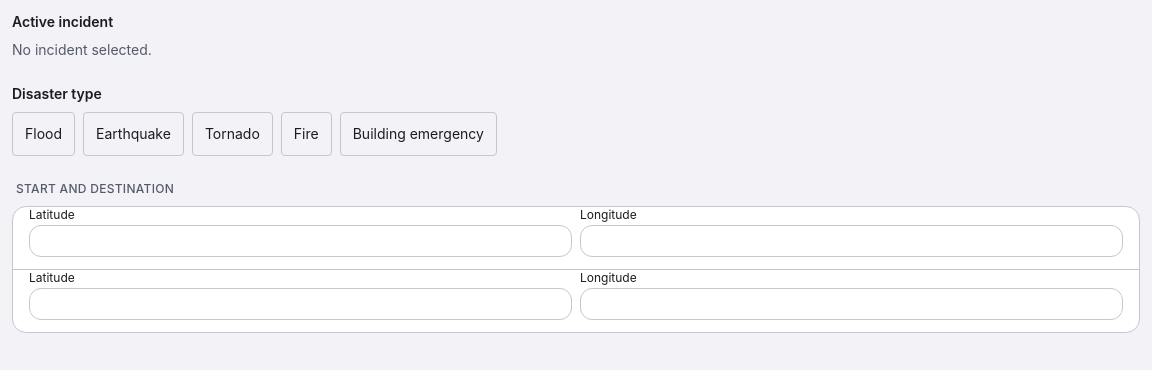
Test: Incident and route setup › rejects out-of-bounds and non-numeric coordinates with a clear error
The width and height of the screenshot is (1152, 370).
In the 1st field labelled "Latitude": (300,241) [29,225,572,257], type "10"
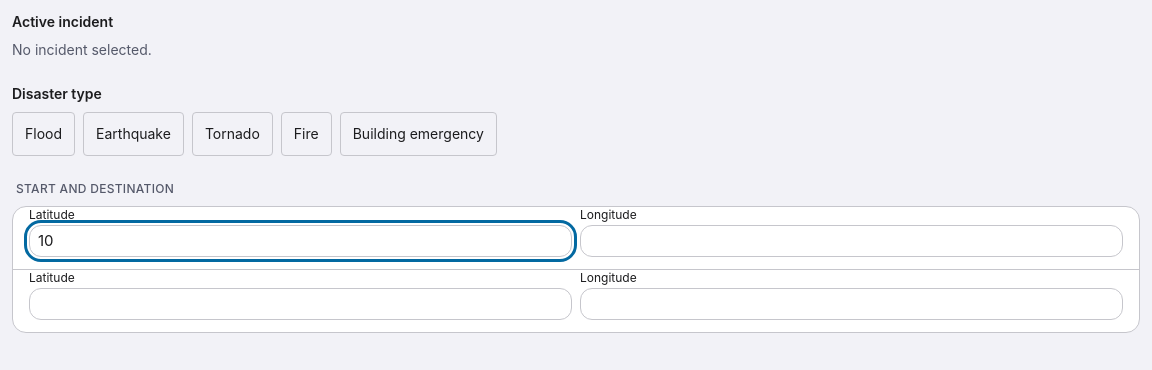
In the 1st field labelled "Longitude": (852,241) [580,225,1123,257], type "20"
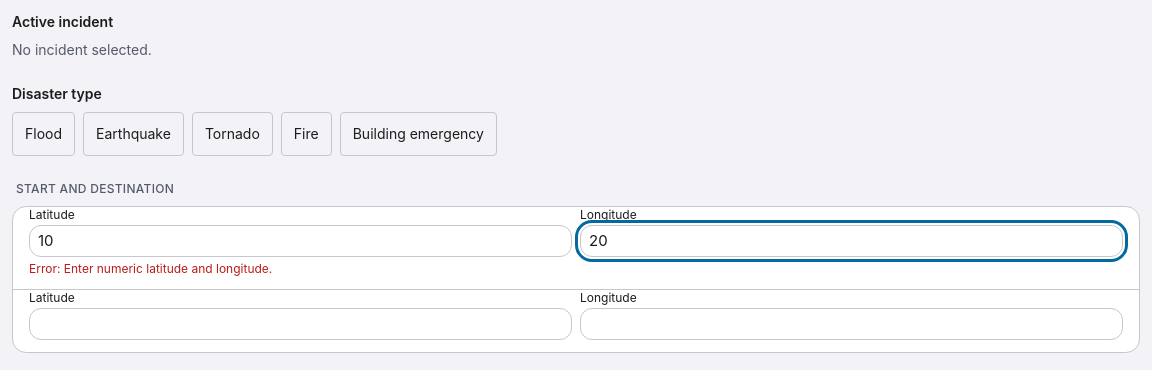
Press Tab
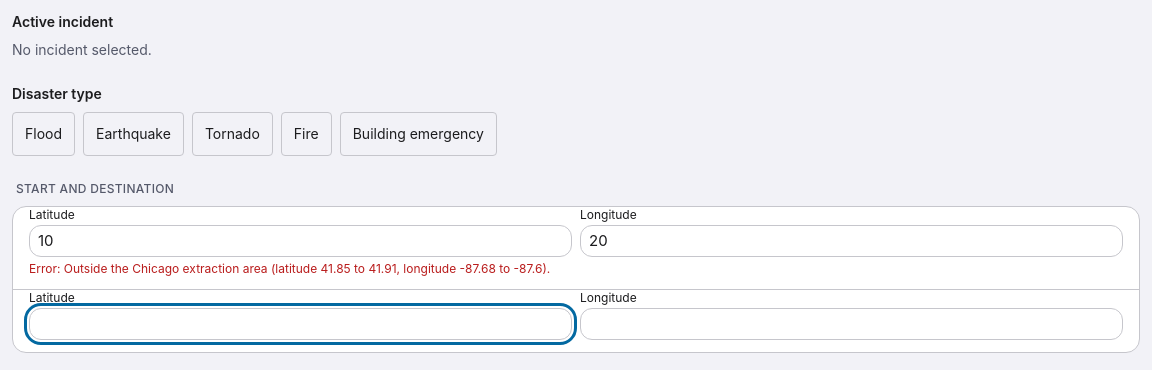
Now the message shows "Outside the Chicago extraction area", box [64,261,550,276]
